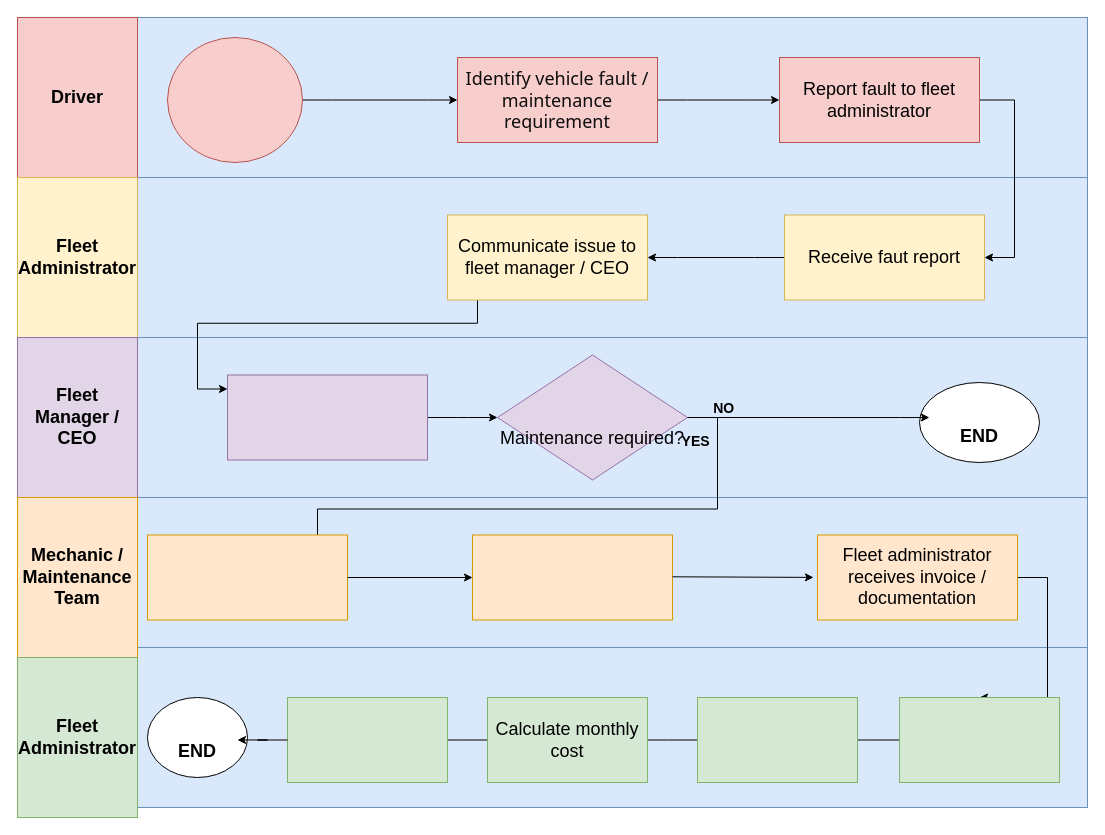
The diagram is 1105 pixels wide and 835 high, and some of its shapes have lost their labels. The shapes that lost their labels are listed below. From the top down, each one's centre as x and y in pixels, then its label:
At (234,99): "Start Vehicle requires maintenance".
At (327,417): "Review maintenance requirement".
At (247,577): "Perform maintenance & repair".
At (572,577): "Maintenance completed".
At (367,739): "Print & file spreadsheet".
At (777,739): "Records repairs & costs in monthly excel spreadsheet".
At (979,739): "Stores invoice in vehicle suspension files".
